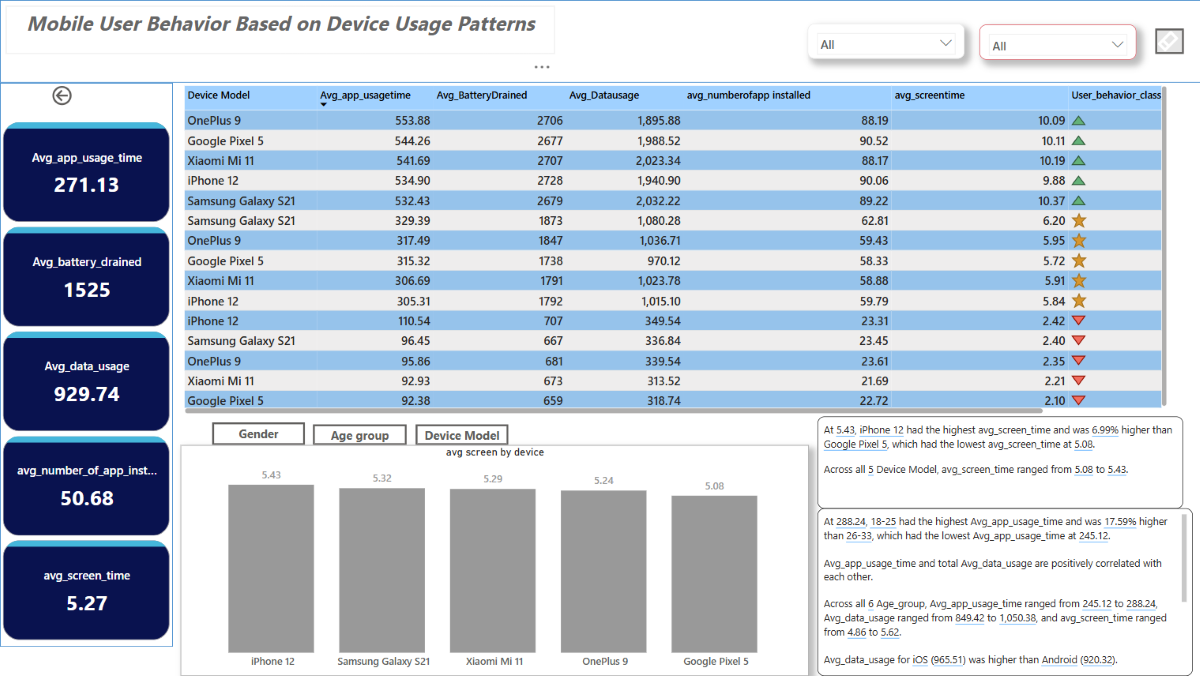

This screenshot's page, from the dashboard's own definition file:
{"tool":"powerbi","page":{"name":"details","canvas":[1920,1080],"ordinal":1},"visuals":[{"type":"shape","box":[0,0,1920.7,132.1],"z":0},{"type":"shape","box":[0,132.1,276.1,901.1],"z":1000},{"type":"cardVisual","fields":{"Data":["user_behavior_dataset.Avg_app_usage_time","user_behavior_dataset.Avg_battery_drained","user_behavior_dataset.Avg_data_usage","user_behavior_dataset.avg_number_of_app_installed","user_behavior_dataset.avg_screen_time"]},"box":[0,191.4,276.1,841.8],"z":2000},{"type":"tableEx","fields":{"Values":["user_behavior_dataset.Device Model","user_behavior_dataset.Avg_app_usage_time","user_behavior_dataset.Avg_battery_drained","user_behavior_dataset.Avg_data_usage","user_behavior_dataset.avg_number_of_app_installed","user_behavior_dataset.avg_screen_time","user_behavior_dataset.User_behavior_class_group"]},"box":[287.9,132.1,1580.2,533.5],"z":3000},{"type":"slicer","fields":{"Values":["user_behavior_dataset.Operating System"]},"box":[1290.6,37.3,250.7,55.9],"z":4000},{"type":"slicer","fields":{"Values":["user_behavior_dataset.Device Model"]},"box":[1565,39,250.7,55.9],"z":5000},{"type":"actionButton","box":[1844.5,45.7,45.7,40.6],"z":6000},{"type":"actionButton","title":"Gender Button","box":[339.1,675,148.2,36.3],"z":8000},{"type":"actionButton","title":"Age Button","box":[499.9,678.2,149.8,33.1],"z":9000},{"type":"actionButton","title":" device model btn","box":[664,678.2,148.2,33.1],"z":10000},{"type":"clusteredColumnChart","title":"avg screen by device","fields":{"Y":["user_behavior_dataset.avg_screen_time"],"Category":["user_behavior_dataset.Device Model"]},"box":[288.6,711.3,1003,369],"z":12000},{"type":"textbox","box":[10,10,876.9,77.3],"z":13000},{"type":"textbox","box":[1305.9,665.6,584.3,147.4],"z":14000},{"type":"textbox","box":[1305.9,813,599.6,267.6],"z":15000},{"type":"actionButton","box":[79.6,132.1,76.2,40.6],"z":15001}]}

Visuals, with their boxes in screenshot pixels (x1, y1, x2, y2), scaled from the page's 1920x1080 canvas onto the 1200x676 screenshot:
shape: left=0, top=0, right=1199, bottom=83
shape: left=0, top=83, right=173, bottom=647
cardVisual - user_behavior_dataset.Avg_app_usage_time x user_behavior_dataset.Avg_battery_drained: left=0, top=120, right=173, bottom=647
tableEx - user_behavior_dataset.Device Model x user_behavior_dataset.Avg_app_usage_time: left=180, top=83, right=1168, bottom=417
slicer - user_behavior_dataset.Operating System: left=807, top=23, right=963, bottom=58
slicer - user_behavior_dataset.Device Model: left=978, top=24, right=1135, bottom=59
actionButton: left=1153, top=29, right=1181, bottom=54
"Gender Button" actionButton: left=212, top=422, right=305, bottom=445
"Age Button" actionButton: left=312, top=425, right=406, bottom=445
" device model btn" actionButton: left=415, top=425, right=508, bottom=445
"avg screen by device" clusteredColumnChart: left=180, top=445, right=807, bottom=675
textbox: left=6, top=6, right=554, bottom=55
textbox: left=816, top=417, right=1181, bottom=509
textbox: left=816, top=509, right=1191, bottom=675
actionButton: left=50, top=83, right=97, bottom=108
